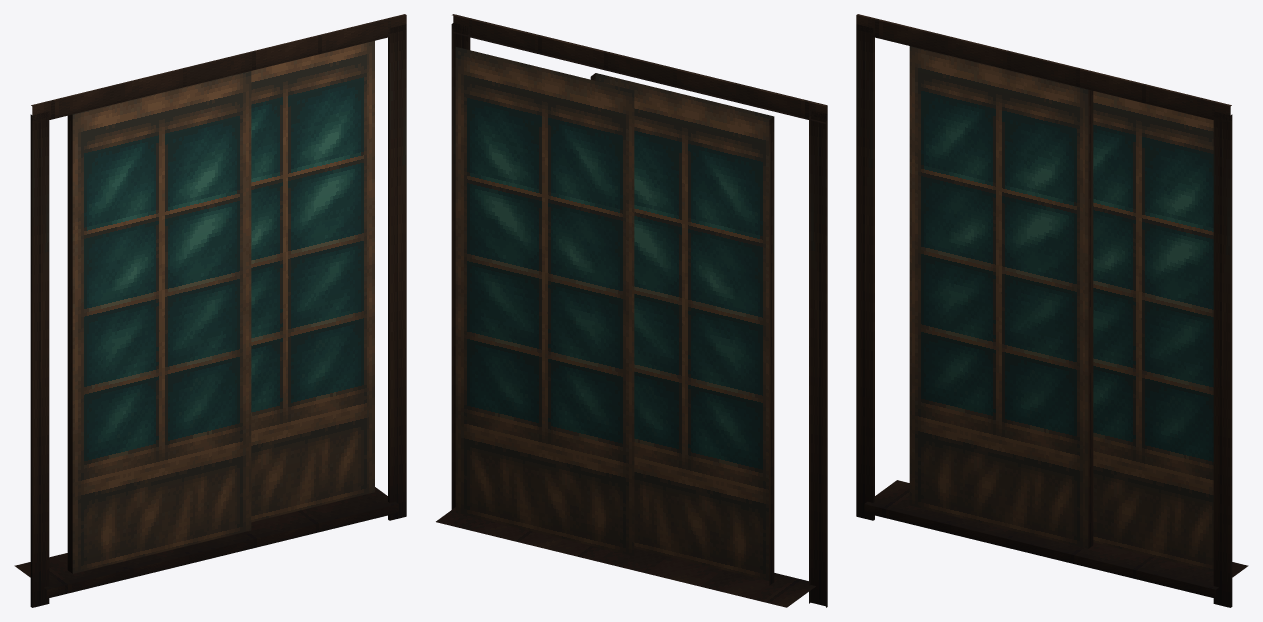
File: prop_sash-12-16-4.glb
3 views of the same model, side by side, from view 1: azimuth 30°, elevation 25°; view 2: azimuth 150°, elevation 25°; view 3: azimuth 330°, elevation 25° (orthographic).
Parts seen in each view (by area): view 1: prop_sash-12-16-4; view 2: prop_sash-12-16-4; view 3: prop_sash-12-16-4.
Boxes of the visible parts, <box> form: prop_sash-12-16-4: <box>14,14,406,607</box>; prop_sash-12-16-4: <box>436,14,827,607</box>; prop_sash-12-16-4: <box>856,14,1248,607</box>.
Bounding box in the file's own units: 1.32 × 1.69 × 0.2.
2 materials, 2 textured.
